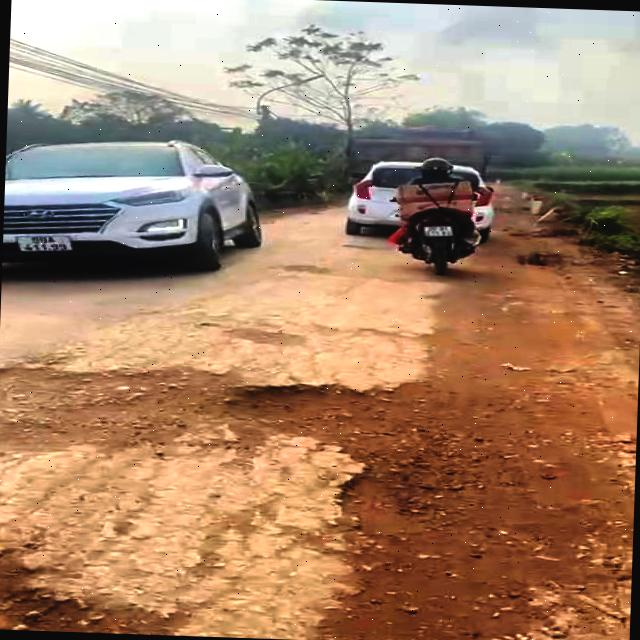pothole: (0, 357, 495, 541), (260, 527, 605, 640), (0, 532, 182, 635)
